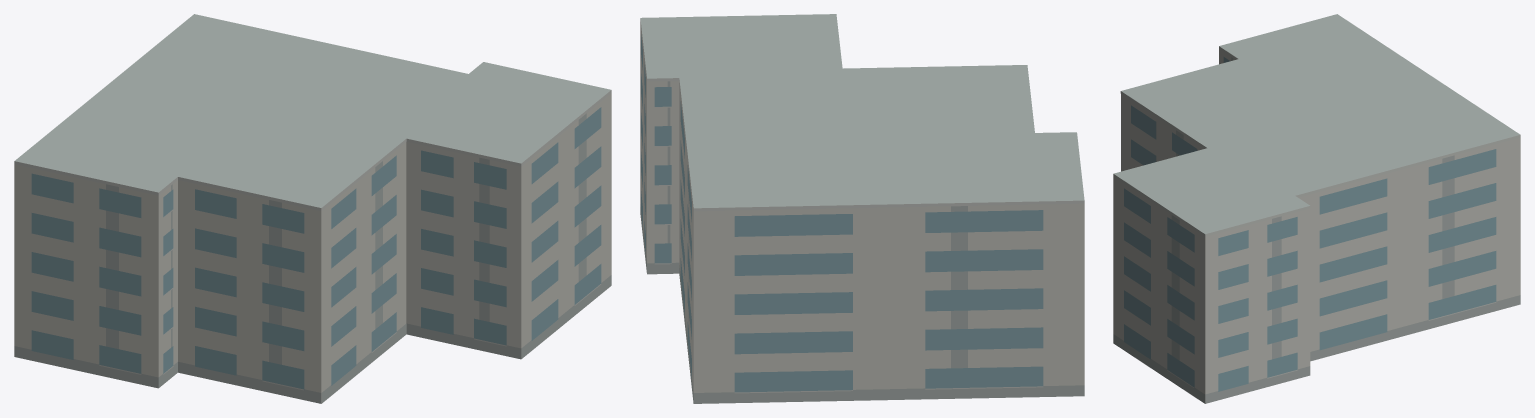
The model's file is residential-d09dfbaa-33c1-4f85-8bfe-8f1efa990579.glb.
3 renders of one model, left to right at view 1: azimuth 30°, elevation 25°; view 2: azimuth 150°, elevation 25°; view 3: azimuth 270°, elevation 25°, orthographic. The views are drawn at different scales.
Parts seen in each view (by area): view 1: residential-d09dfbaa-33c1-4f85-8bfe-8f1efa990579.tmp; view 2: residential-d09dfbaa-33c1-4f85-8bfe-8f1efa990579.tmp; view 3: residential-d09dfbaa-33c1-4f85-8bfe-8f1efa990579.tmp.
Part boxes in pixels (<box>): residential-d09dfbaa-33c1-4f85-8bfe-8f1efa990579.tmp: <box>14,14,611,403</box>; residential-d09dfbaa-33c1-4f85-8bfe-8f1efa990579.tmp: <box>640,14,1084,403</box>; residential-d09dfbaa-33c1-4f85-8bfe-8f1efa990579.tmp: <box>1113,14,1520,403</box>.
Bounding box in the file's own units: 42.46 × 15.25 × 33.18.
